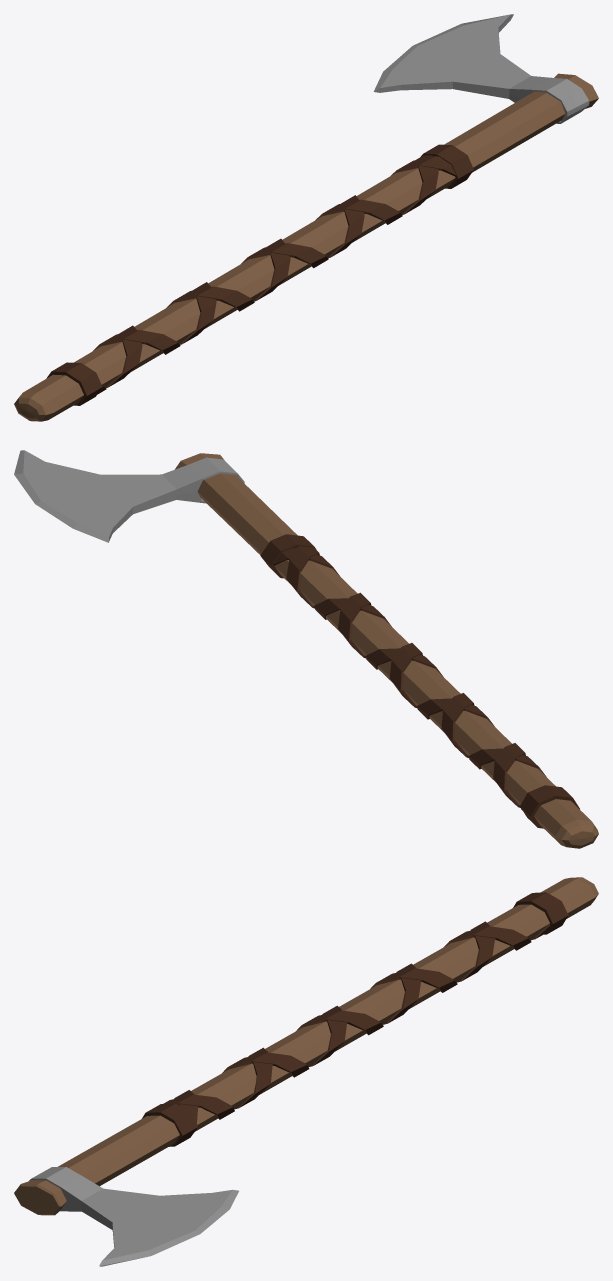
Rendered from axe.fbx.
3 renders of one model, top to bottom at view 1: azimuth 90°, elevation 25°; view 2: azimuth 150°, elevation 25°; view 3: azimuth 270°, elevation 25°, orthographic.
Visible parts, largest first — view 1: Plane.002; view 2: Plane.002; view 3: Plane.002.
Part boxes in pixels (x1,y1,x2,y2): Plane.002: [14, 14, 598, 421]; Plane.002: [14, 450, 598, 848]; Plane.002: [14, 877, 598, 1266].
Size of the model in its own units: 108 by 4.77 by 68.11.
